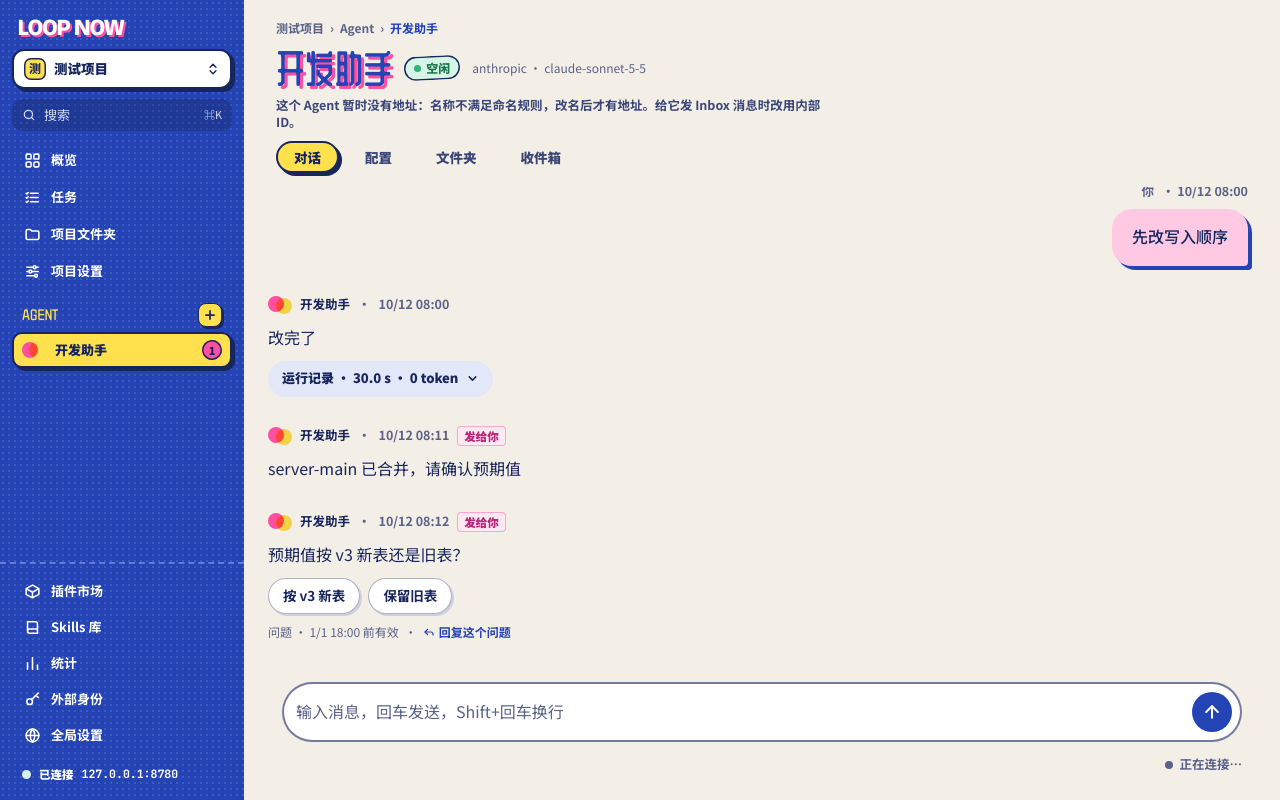
Test case: Agent 对话里发给你的消息 › 迟到的选项（原题已关闭）只提交一次，按钮随之变淡，不改成普通消息
(page scrolled)
Expected: the element named "对话" is shown, [268, 187, 1256, 666]
Click the button "按 v3 新表" at coordinates (314, 596), box [268, 578, 360, 614]
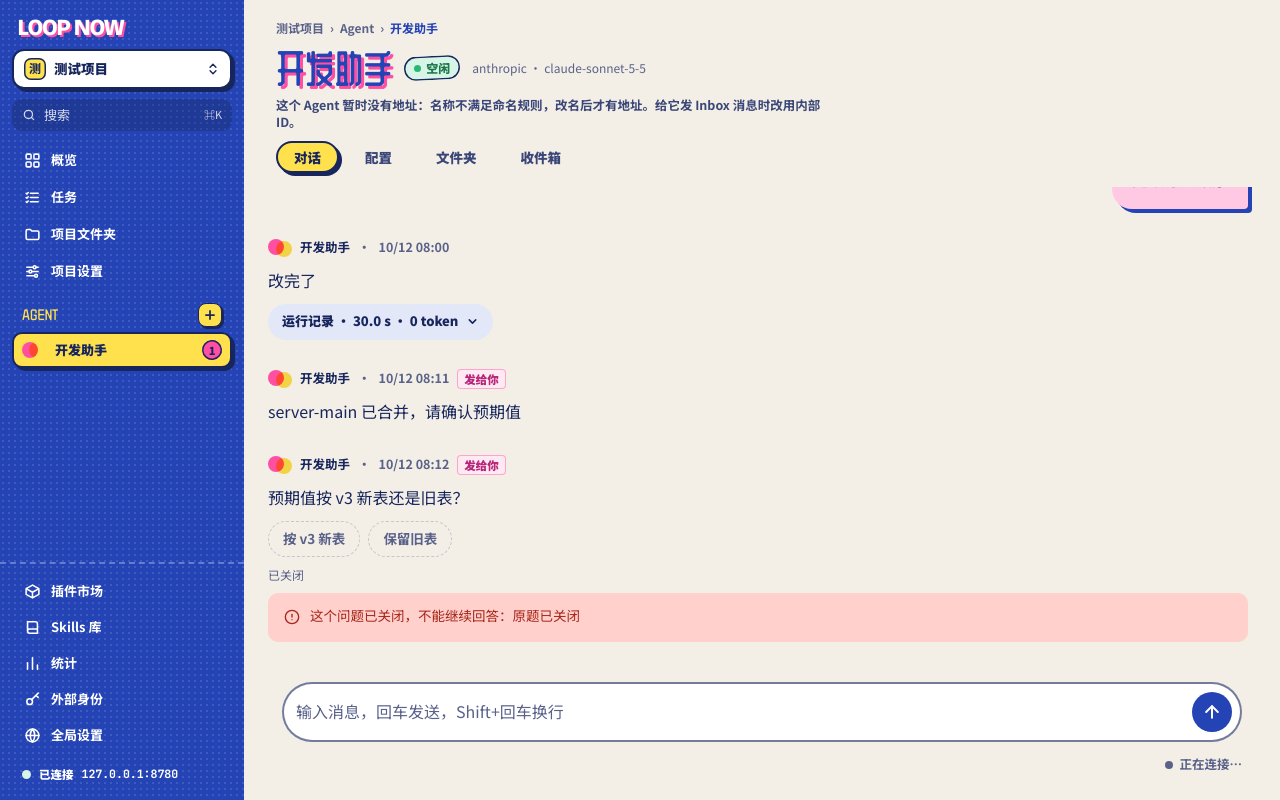
Expected: the text "已关闭" is shown, [268, 565, 304, 585]
Expected: the button "保留旧表" is disabled, [368, 521, 452, 557]
Expected: the button "回复这个问题" is gone
